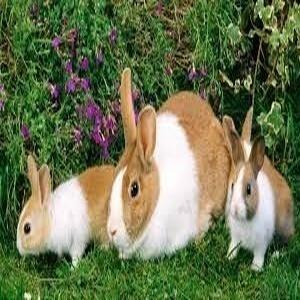rabbit: (16, 69, 295, 271)
